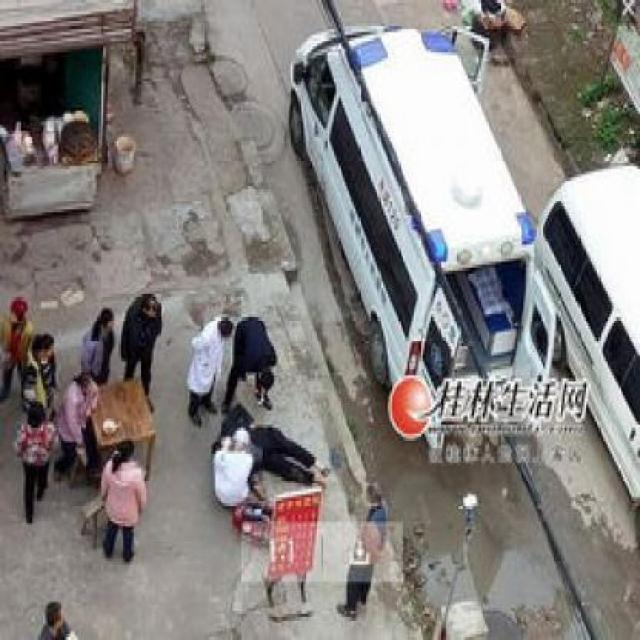fall: (198, 393, 325, 498)
